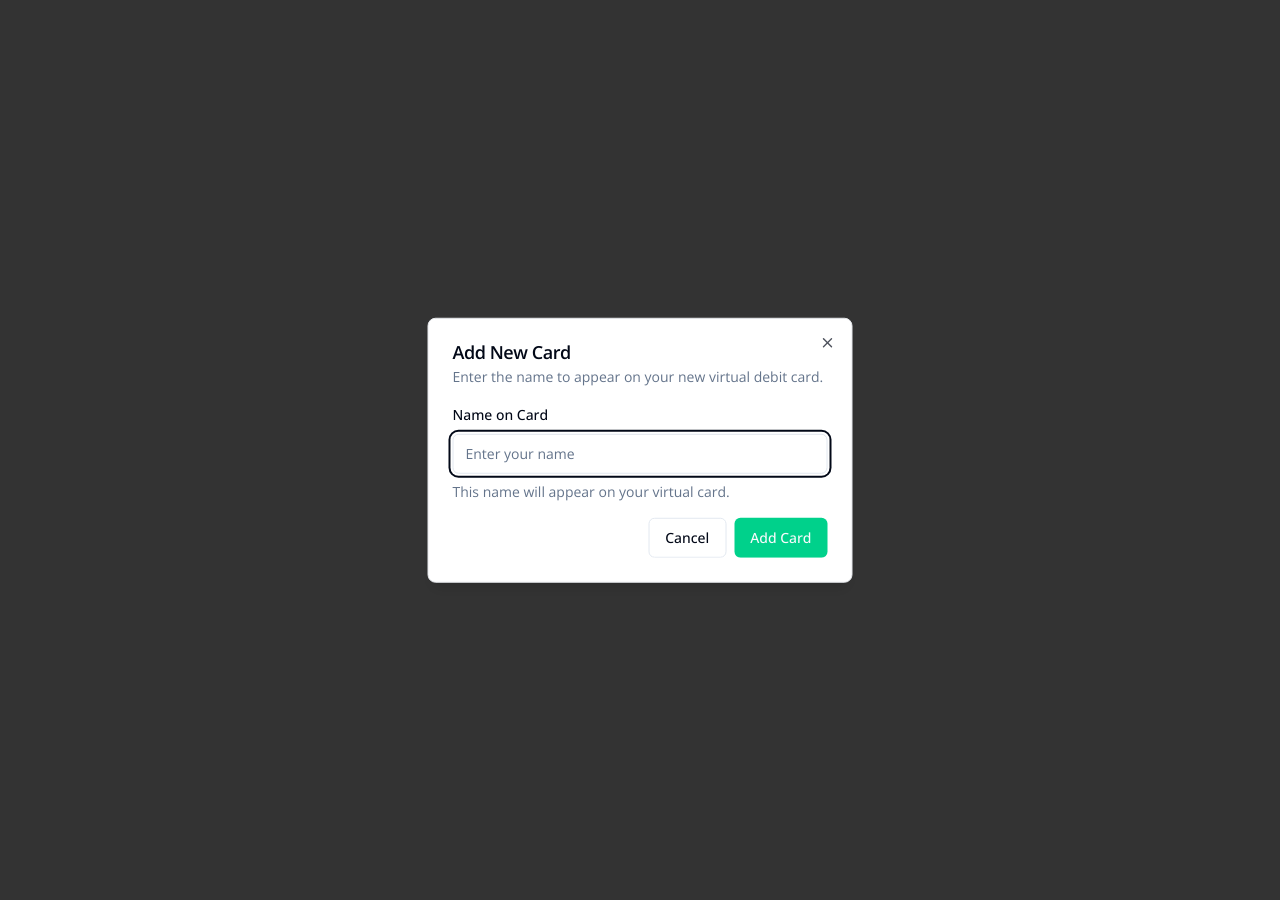
Test case: AddCardModal › validates form input - rejects invalid characters
The image size is (1280, 900).
Type "Test123" into the field labelled "Name on Card".
click(640, 453); type("Test123")  # box 452,433 -> 828,473
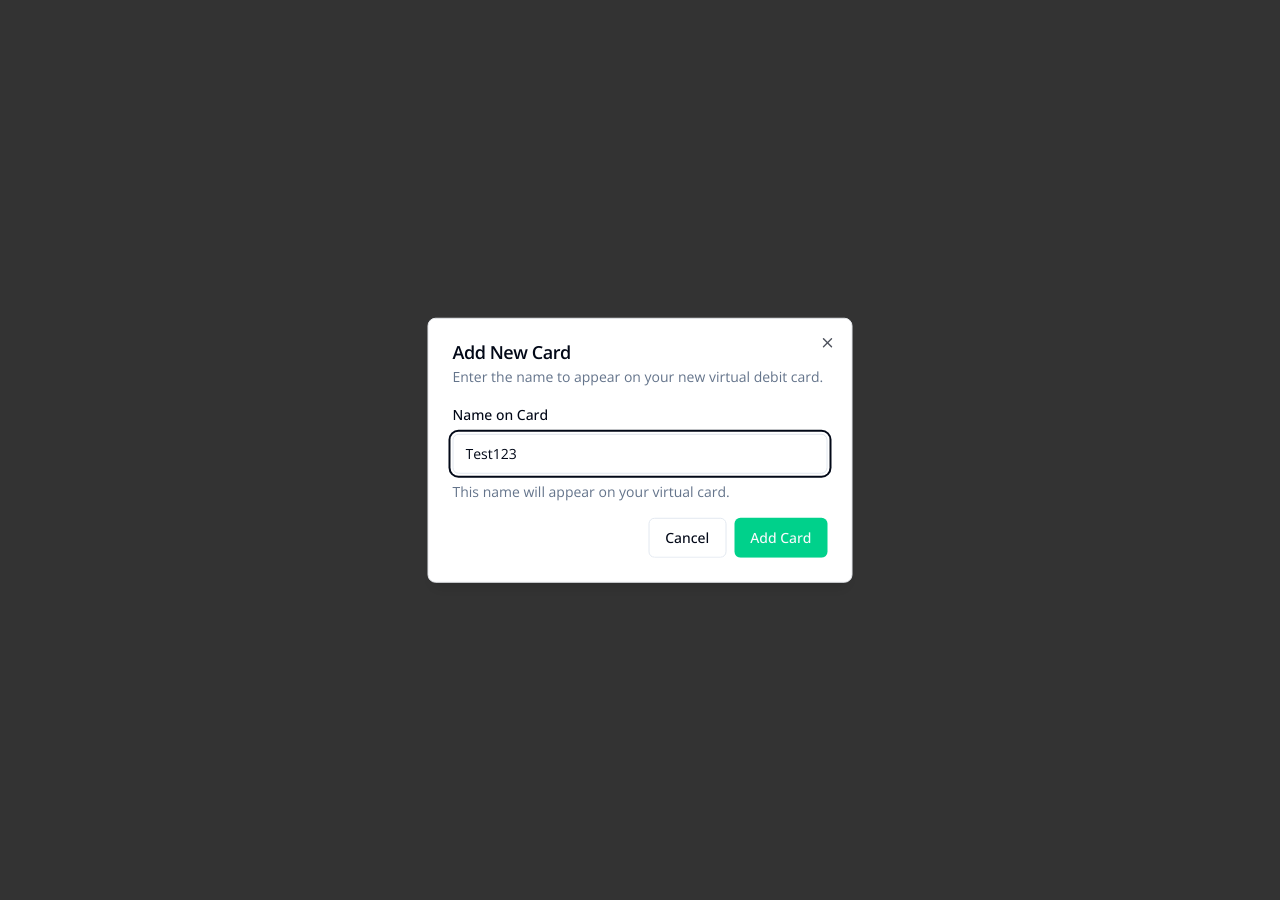
Click the button "Add Card".
click(781, 537)  # box 734,517 -> 828,557
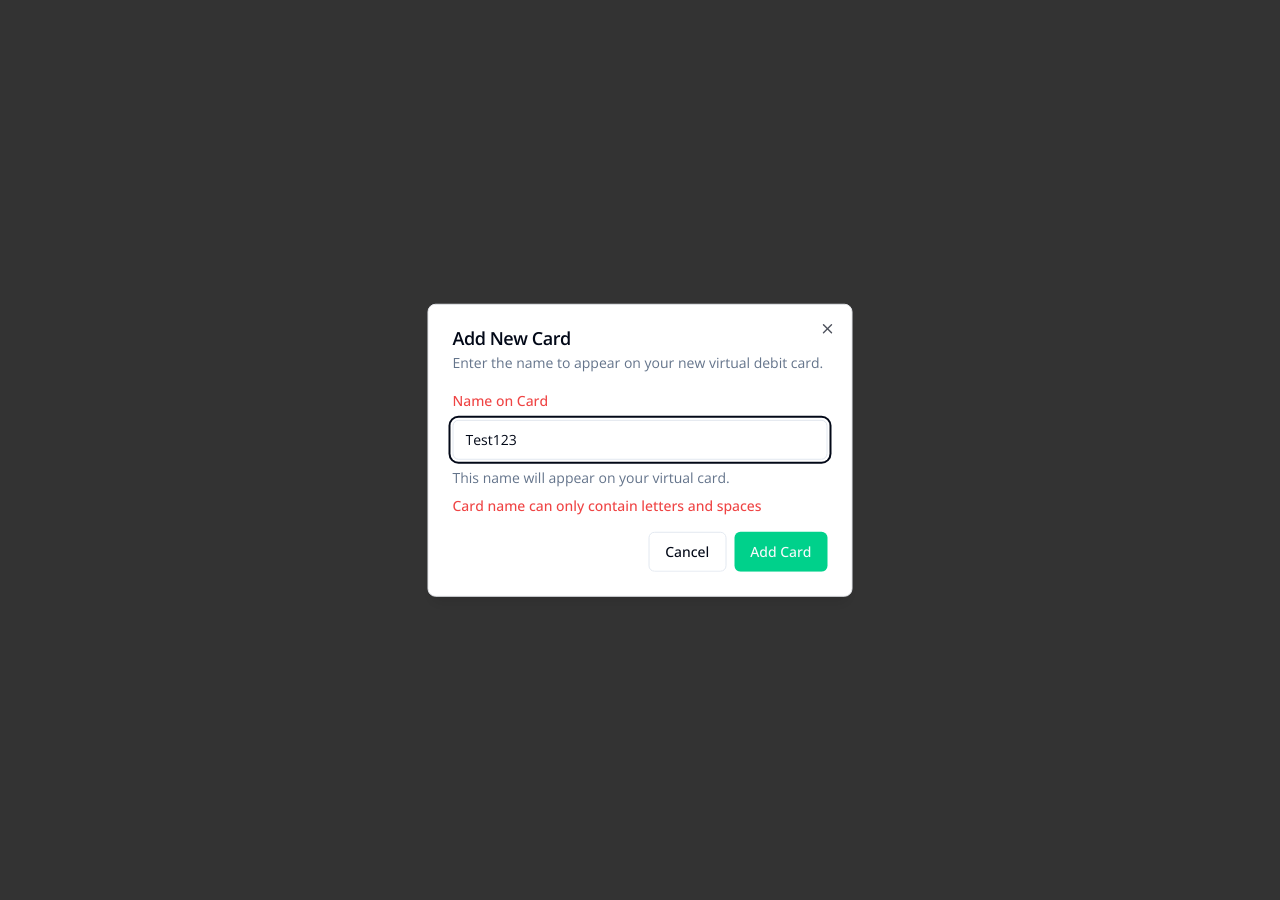
Check: the text "Card name can only contain letters and spaces" is shown, box 452,495 -> 762,514
